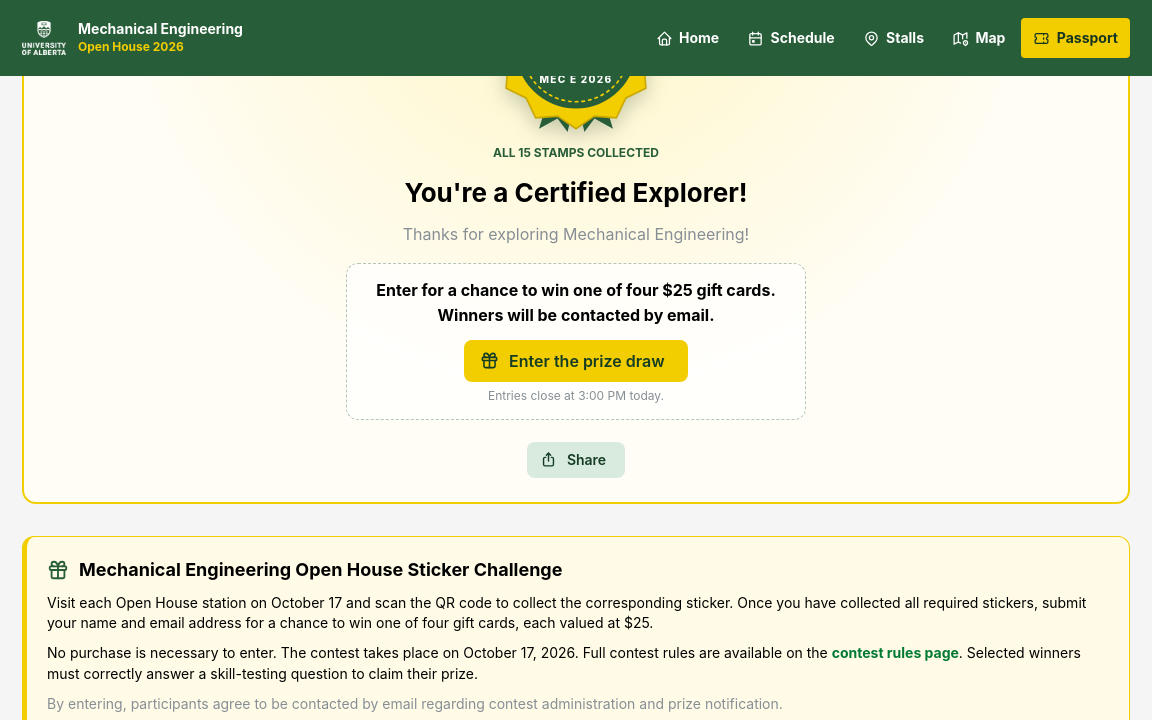
Scenario: prize draw entry › suggests a fix for a likely email typo
(page scrolled)
Click the button "Enter the prize draw" at (576, 361), box [464, 340, 688, 382]
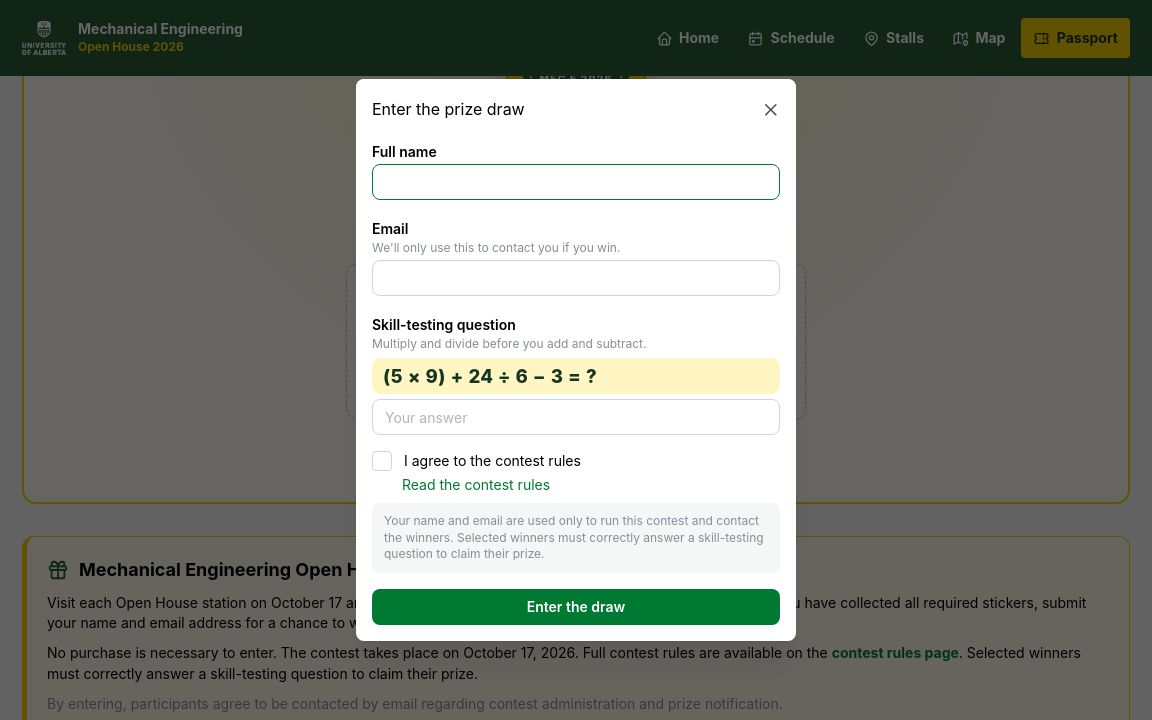
Type "alex@gmial.com" into the field labelled "Email" at (576, 278), box [372, 260, 780, 296]
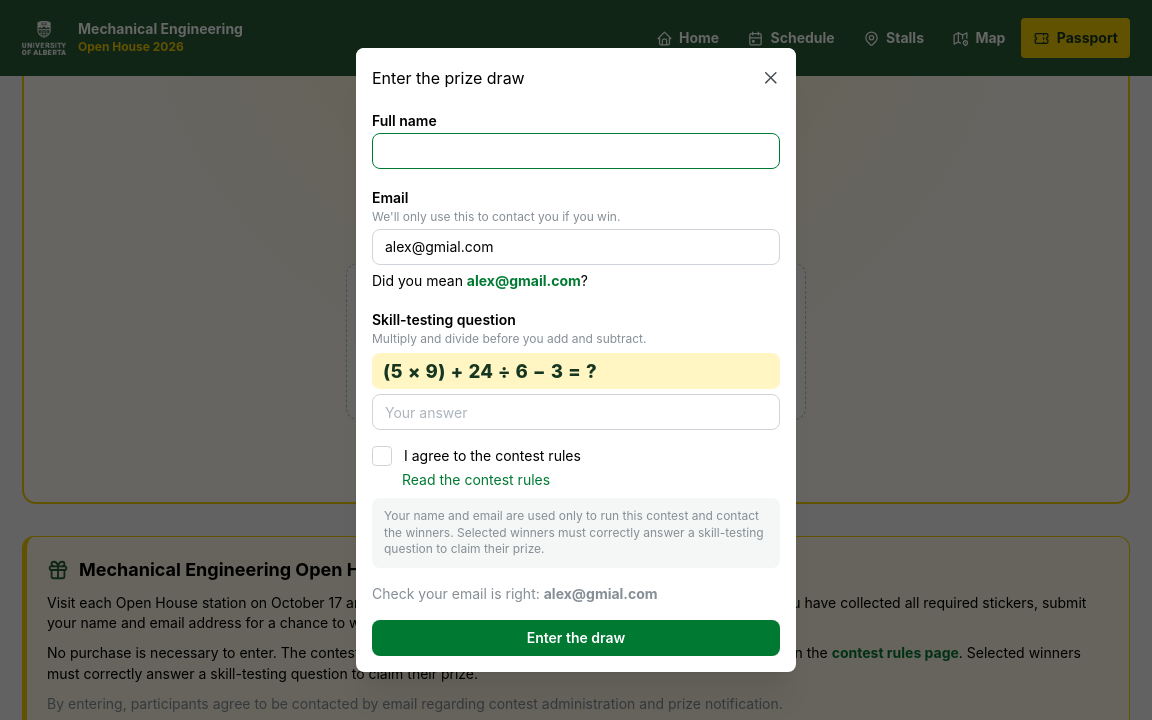
Click the button "alex@gmail.com" at (524, 281), box [467, 271, 581, 291]
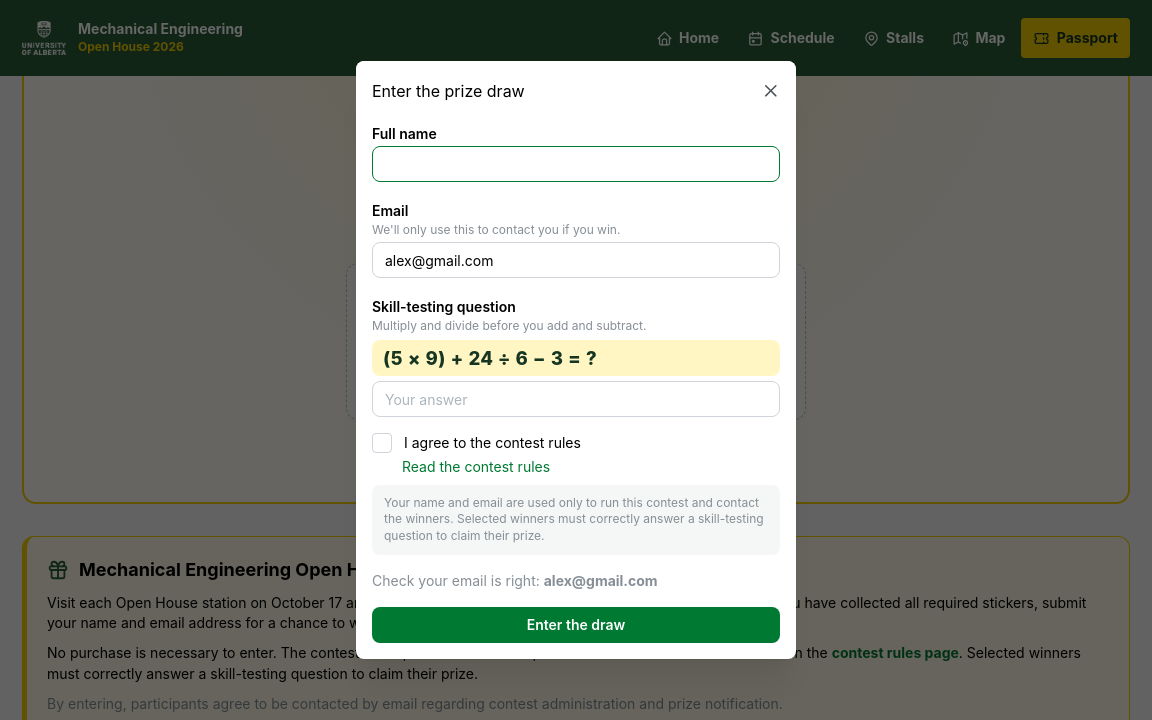
Expected: the field labelled "Email" holds "alex@gmail.com", [372, 242, 780, 278]
